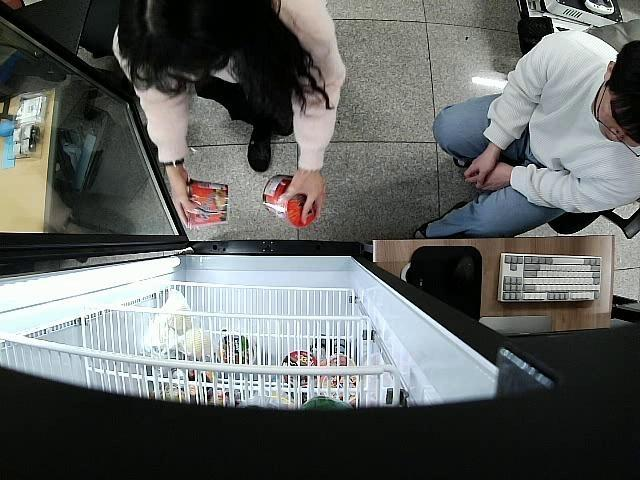01_ShinRamen_L: (263, 172, 318, 227), (184, 180, 231, 227)
